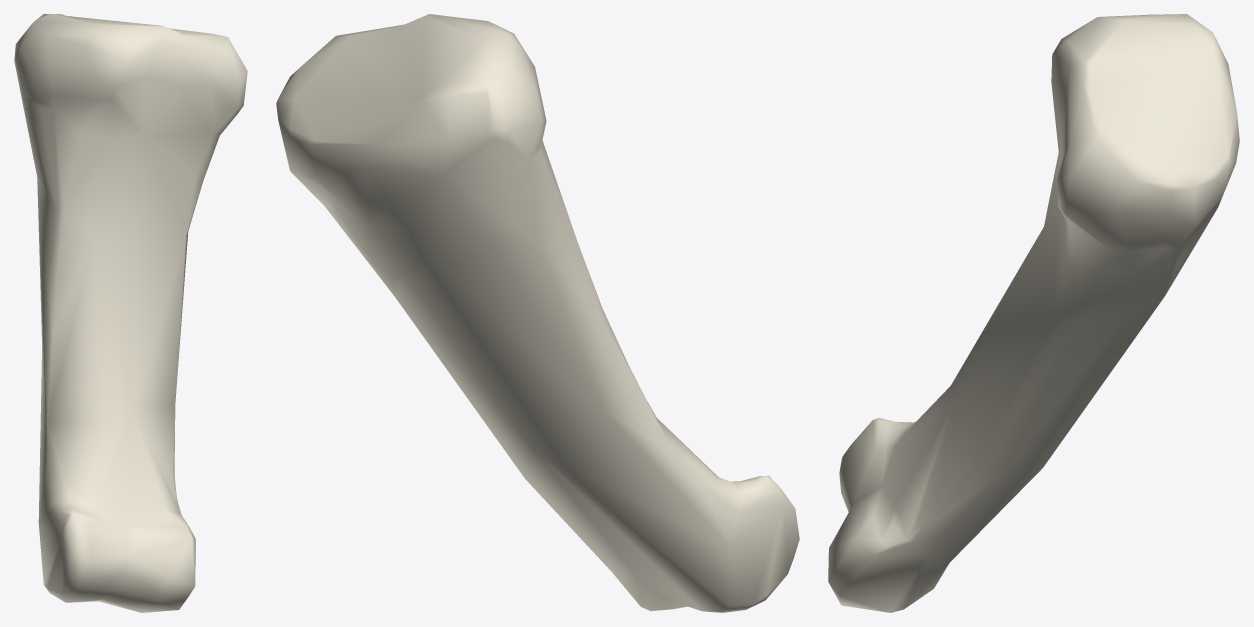
3 renders of one model, left to right at view 1: azimuth 30°, elevation 25°; view 2: azimuth 150°, elevation 25°; view 3: azimuth 270°, elevation 25°, orthographic. The views are drawn at different scales.
Parts seen in each view (by area): view 1: ZA_b7e1d81f56ce2f15; view 2: ZA_b7e1d81f56ce2f15; view 3: ZA_b7e1d81f56ce2f15.
Boxes of the visible parts, x1,y1,x2,y2 form: ZA_b7e1d81f56ce2f15: [14, 14, 247, 612]; ZA_b7e1d81f56ce2f15: [276, 14, 799, 612]; ZA_b7e1d81f56ce2f15: [828, 14, 1239, 612].
Bounding box in the file's own units: 0.0227 × 0.0389 × 0.0237.
